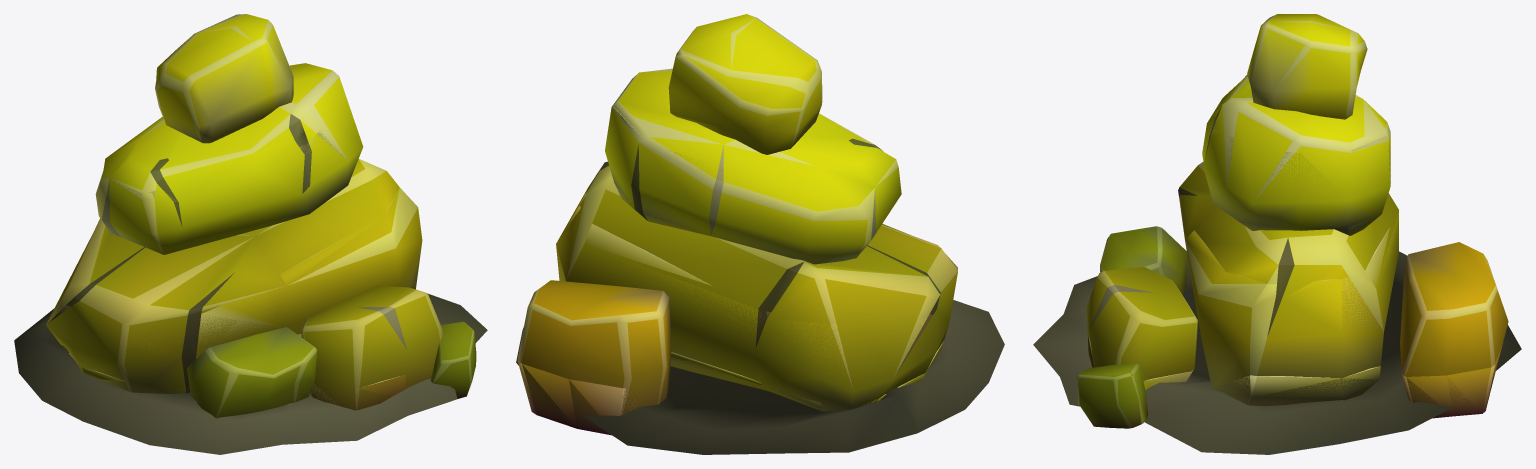
The model's file is Stone_V3_0.fbx.
3 renders of one model, left to right at view 1: azimuth 30°, elevation 25°; view 2: azimuth 150°, elevation 25°; view 3: azimuth 270°, elevation 25°, orthographic. The views are drawn at different scales.
Parts seen in each view (by area): view 1: Stone_V3_0, Stone_V3_2, Stone_V3_3, Stone_V3_1; view 2: Stone_V3_0, Stone_V3_2, Stone_V3_3, Stone_V3_1; view 3: Stone_V3_0, Stone_V3_2, Stone_V3_3, Stone_V3_1.
Boxes of the visible parts, x1,y1,x2,y2 form: Stone_V3_0: (14, 14, 487, 454); Stone_V3_2: (46, 188, 399, 364); Stone_V3_3: (60, 282, 415, 409); Stone_V3_1: (102, 130, 347, 201); Stone_V3_0: (516, 14, 1004, 454); Stone_V3_2: (556, 188, 935, 391); Stone_V3_3: (518, 341, 943, 434); Stone_V3_1: (613, 106, 896, 211); Stone_V3_0: (1033, 14, 1521, 454); Stone_V3_2: (1185, 213, 1398, 338); Stone_V3_3: (1087, 332, 1503, 417); Stone_V3_1: (1208, 100, 1387, 202).
Size of the model in its own units: 215 by 163 by 211.
